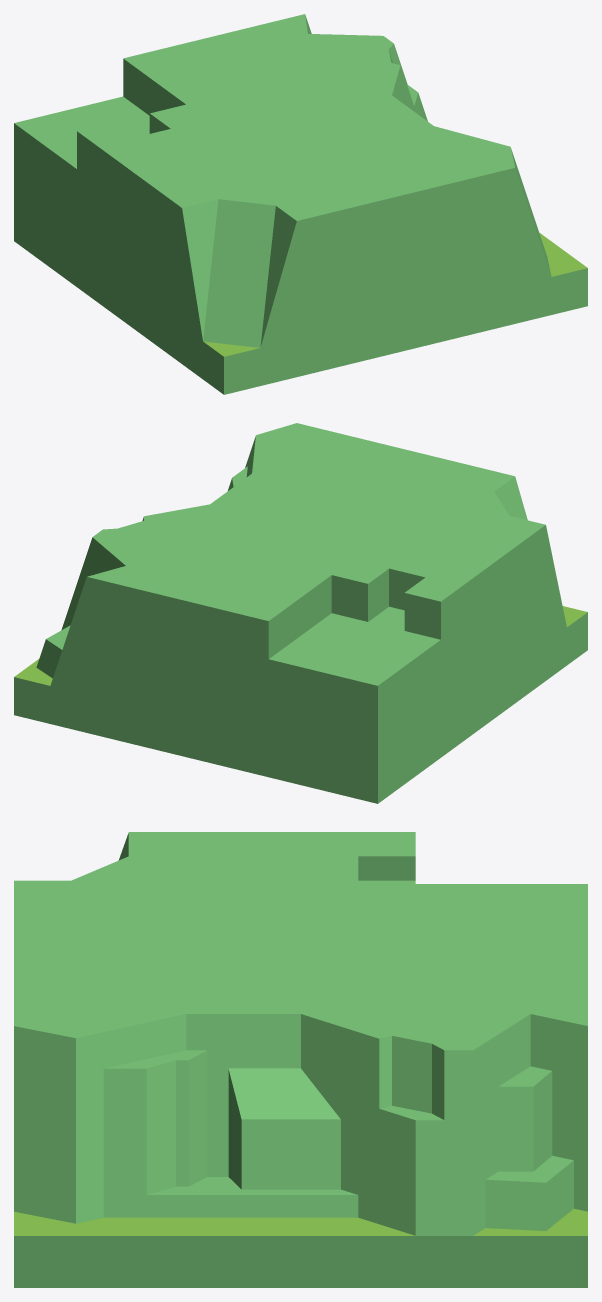
File: x_zem_1_13_1_rmstrd.fbx
The picture shows the model from 3 angles, top to bottom: view 1: azimuth 30°, elevation 25°; view 2: azimuth 150°, elevation 25°; view 3: azimuth 270°, elevation 25°; orthographic projection. The views are drawn at different scales.
Visible parts, largest first — view 1: x_zem_1_13_1_rmstrd1; view 2: x_zem_1_13_1_rmstrd1; view 3: x_zem_1_13_1_rmstrd1.
Boxes of the visible parts, x1=… form: x_zem_1_13_1_rmstrd1: x1=14, y1=14, x2=587, y2=394; x_zem_1_13_1_rmstrd1: x1=14, y1=423, x2=587, y2=803; x_zem_1_13_1_rmstrd1: x1=14, y1=832, x2=587, y2=1287.
Size of the model in its own units: 10 by 4.1 by 10.
